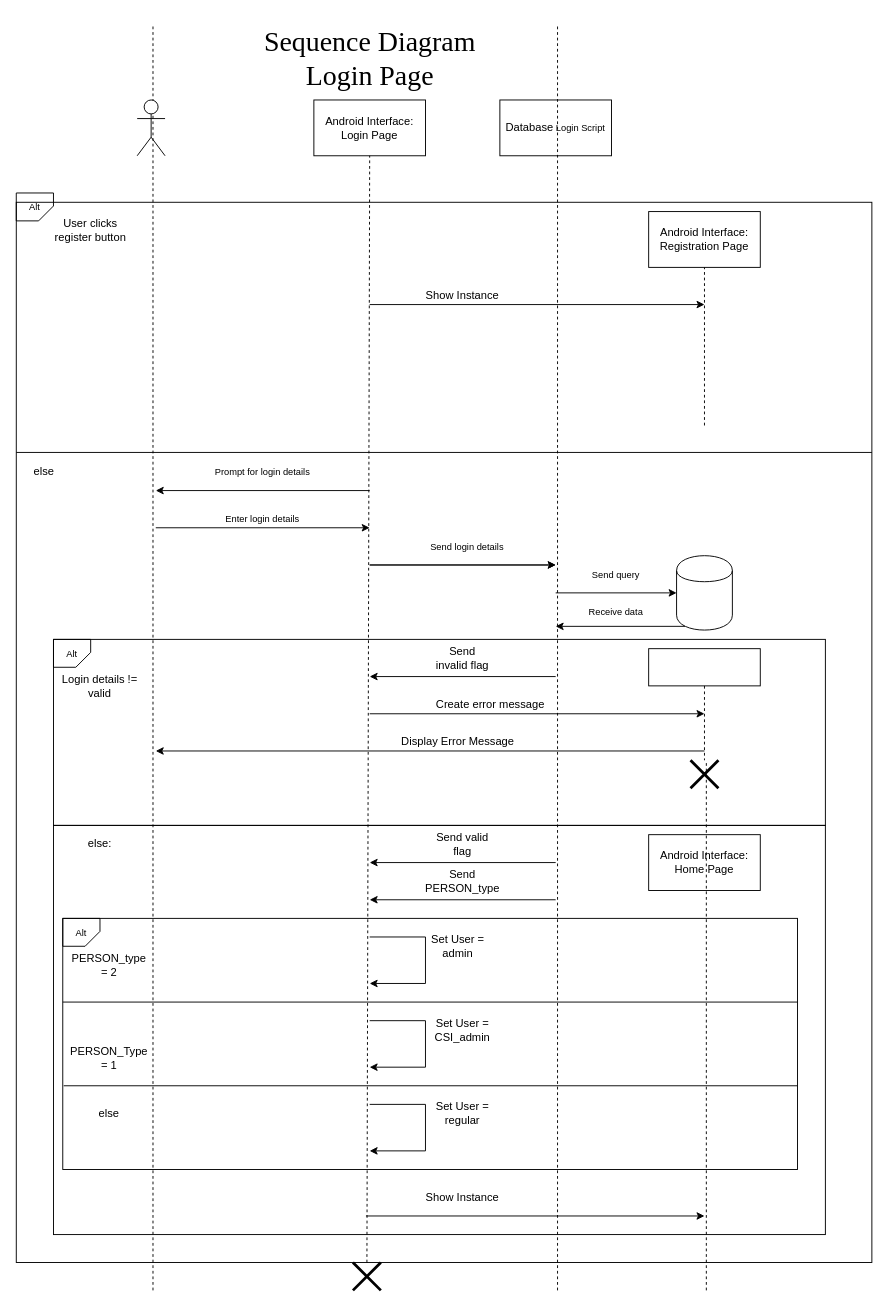
The diagram is 889 pixels wide and 1308 high, and some of its shapes have lost their labels. Here are the shapes that lost their labels. From the top down, the centre of each, then its label:
At [150,127]: "User".
At [704,592]: "Google Firebase".
At [704,667]: "Invalid login details message".
